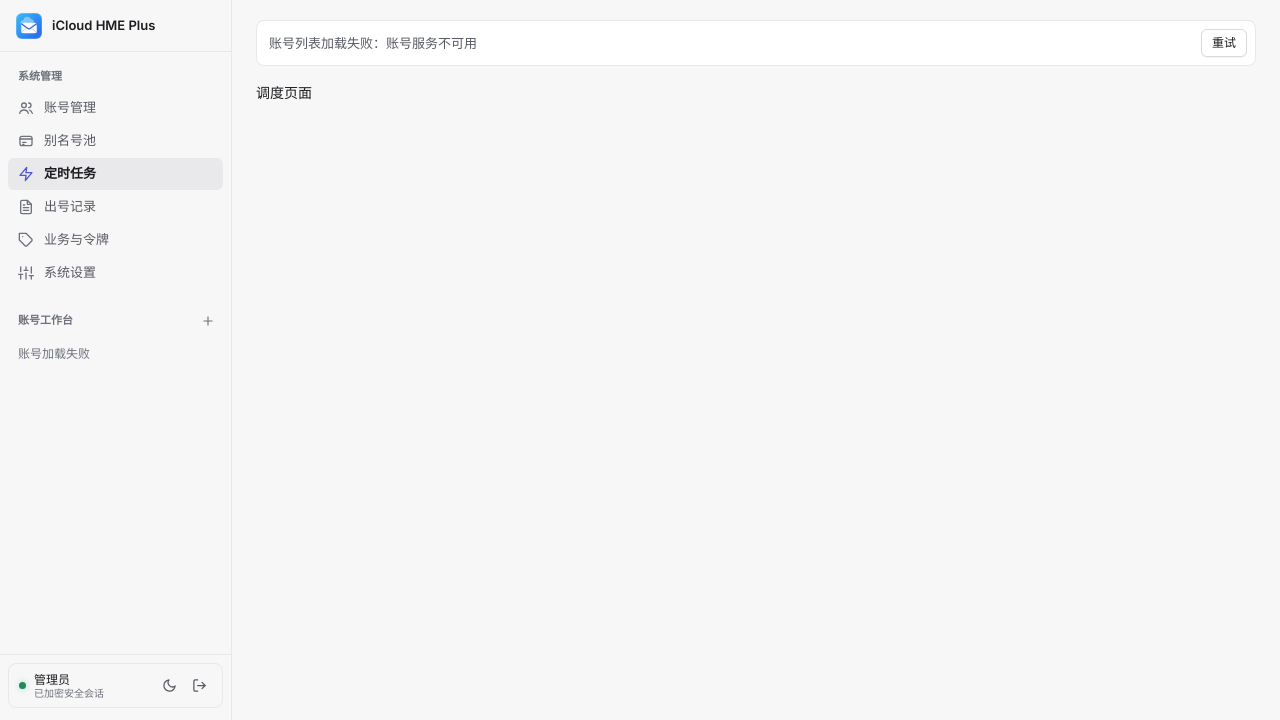
Test case: AppShell › 账号加载失败时显示全局重试，成功后恢复侧栏
Expected: the message shows "账号列表加载失败：账号服务不可用", [256,20,1256,66]
Click the button "重试" at {"x": 1224, "y": 43}, box [1201,29,1247,57]
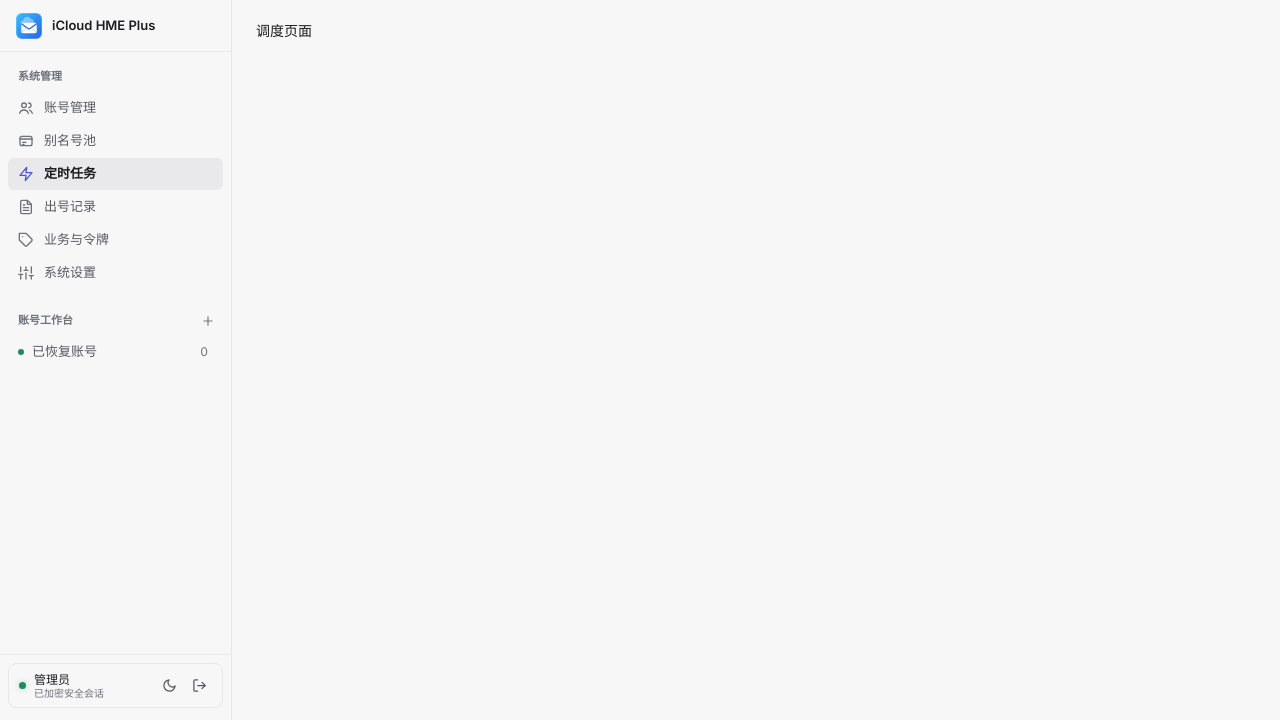
Now the text "已恢复账号" is shown, box [32,343,97,359]
Now the message "账号列表加载失败：账号服务不可用 重试" is gone
